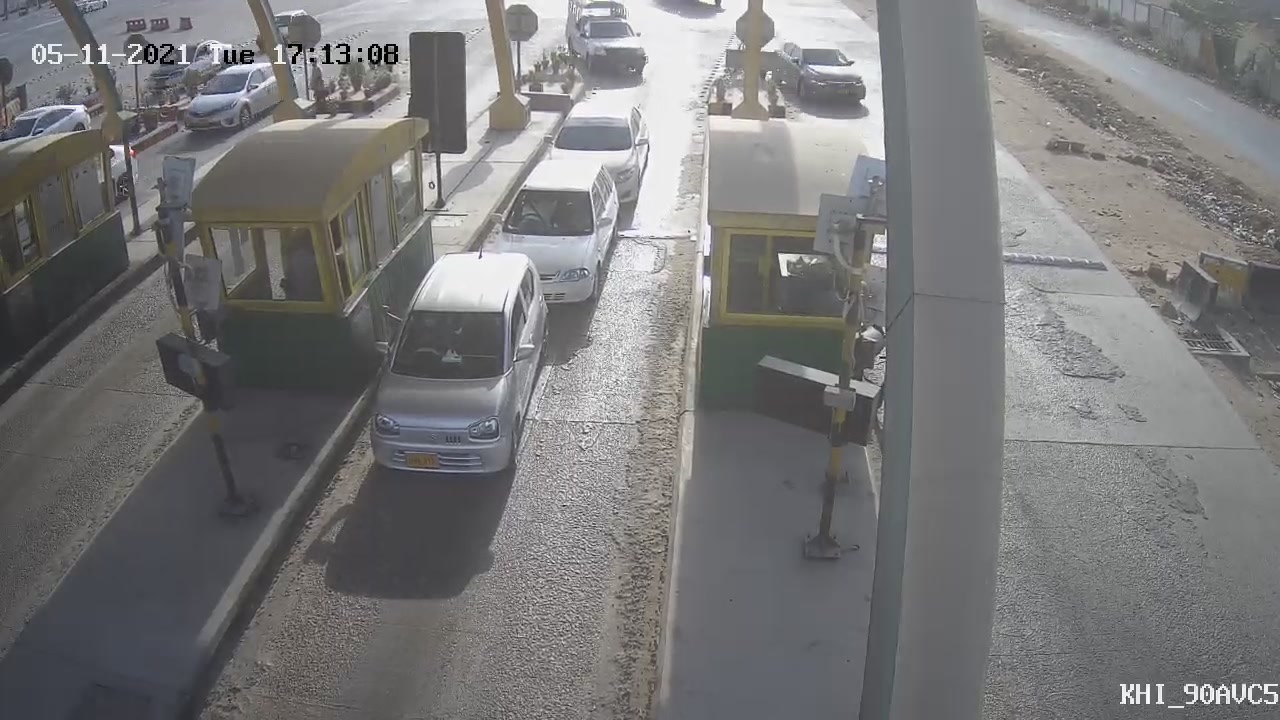F1: (344, 231, 578, 499), (473, 144, 633, 322)
